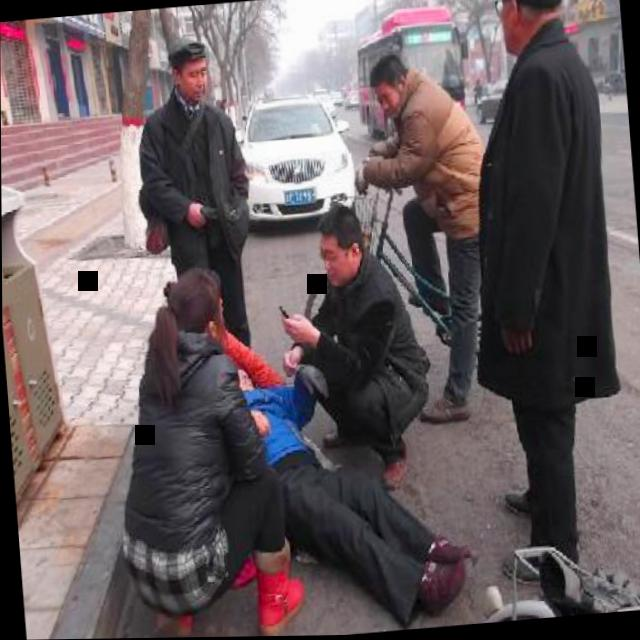Fall-Detected: (214, 332, 483, 638)
